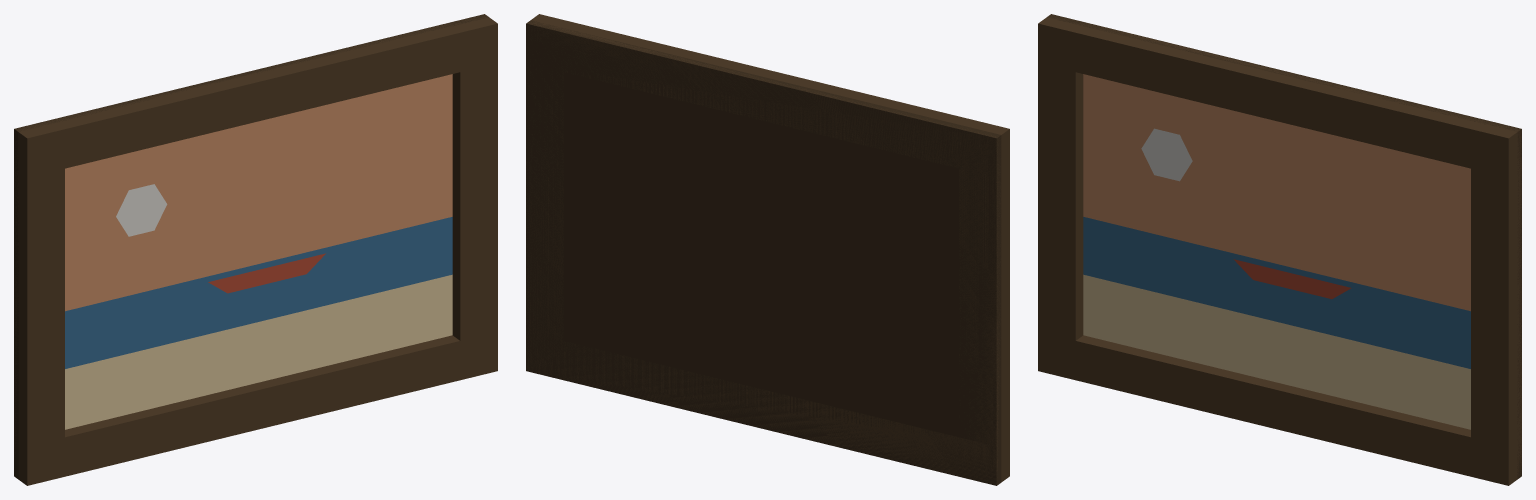
File: picture-frame-10.glb
The picture shows the model from 3 angles, left to right: view 1: azimuth 30°, elevation 25°; view 2: azimuth 150°, elevation 25°; view 3: azimuth 330°, elevation 25°; orthographic projection.
Parts seen in each view (by area): view 1: picture_frame_10; view 2: picture_frame_10; view 3: picture_frame_10.
Part boxes in pixels (<box>): picture_frame_10: <box>14,14,497,485</box>; picture_frame_10: <box>526,14,1009,485</box>; picture_frame_10: <box>1038,14,1521,485</box>.
Size of the model in its own units: 0.6995 by 0.4936 by 0.0336.
